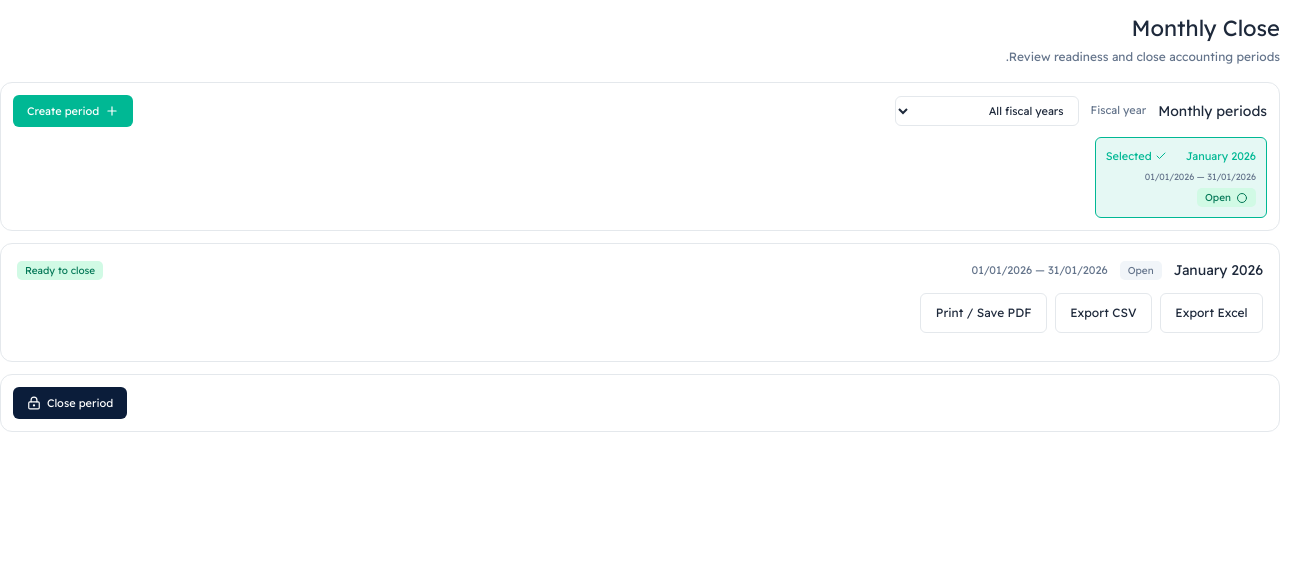
it: MonthlyClose › shows the translated MONTHLY_CLOSE_PERIOD_NOT_OPEN message (en) when closing fails, never the raw backend text
The width and height of the screenshot is (1292, 565).
Click the button "Close period" at (70, 403), box top-left (13, 387), bottom-right (127, 419)
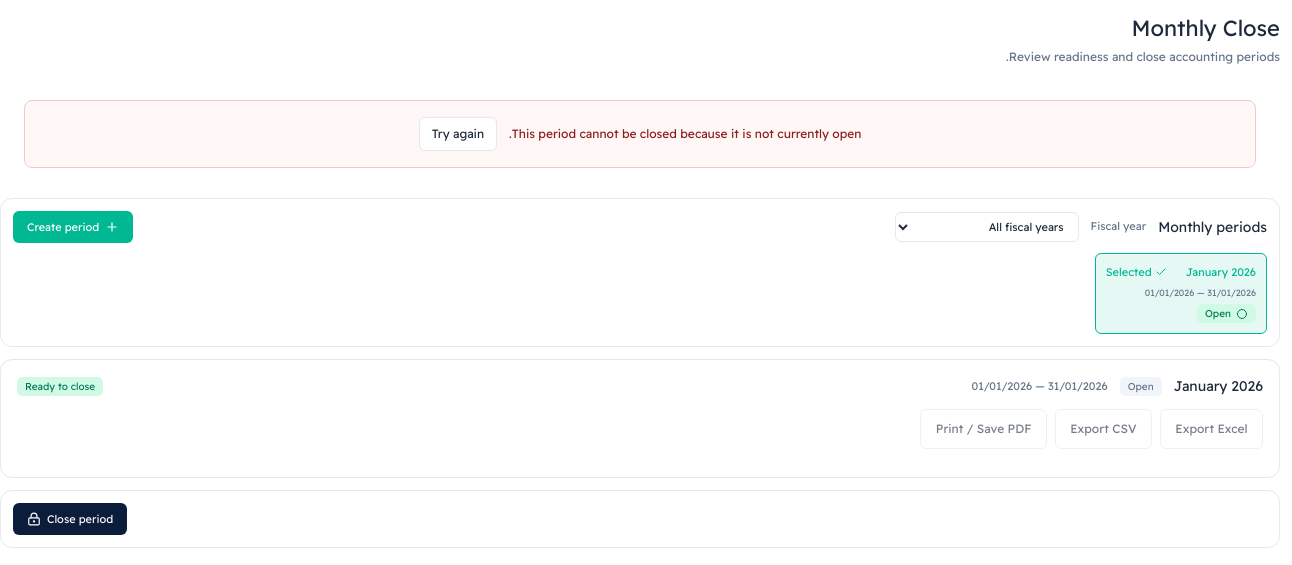
Expected: the text "This period cannot be closed because it is not currently open." is shown, top-left (509, 124), bottom-right (861, 144)
